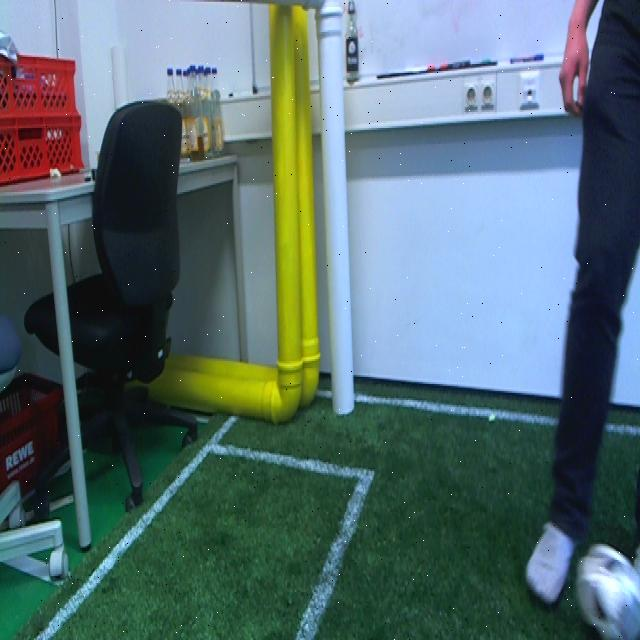ball: (575, 542, 634, 630)
goalpost: (312, 4, 358, 416)
